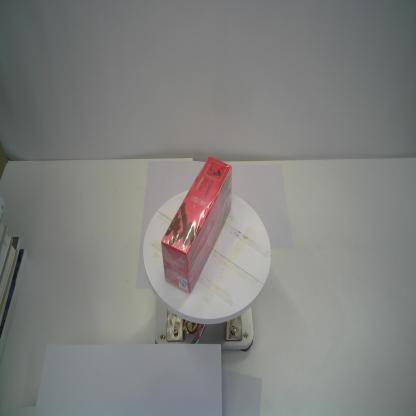Instant Drink: (161, 157, 232, 294)
